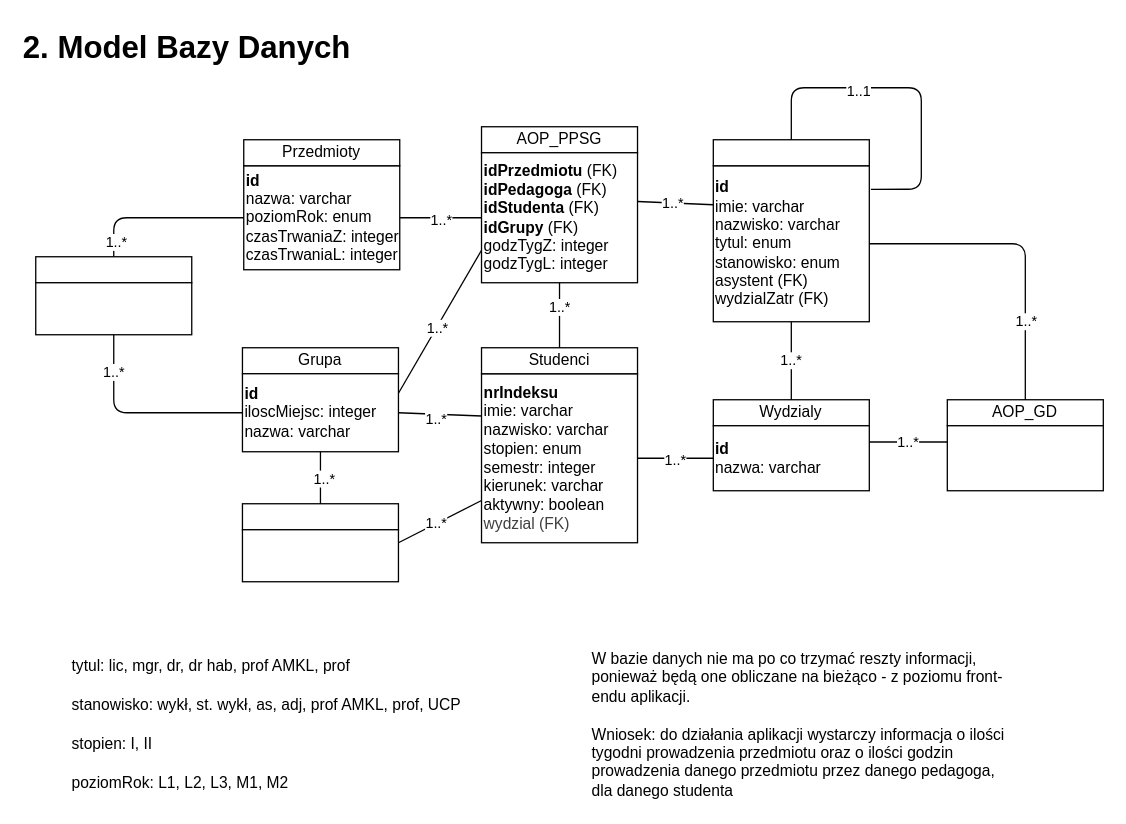
Some shapes in this 1126 by 824 pixel diagram are drawn without their labels. Here are the shapes that lost their labels. From the top down, the centre of each, then its label:
At point 790,152: "Pedagodzy".
At point 113,269: "GrupyPrzedmioty".
At point 113,308: "idPrzedmiotu (FK) idGrupy (FK)".
At point 1024,457: "idPedagoga (FK) idWydzialu (FK) ilosc: integer".
At point 319,516: "GrupyStudenci".
At point 319,555: "idStudenta (FK) idGrupy (FK)".
